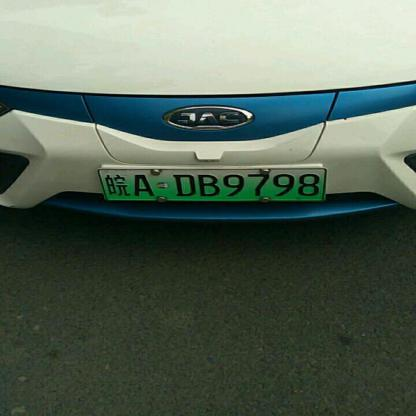lp: (98, 170, 326, 199)
